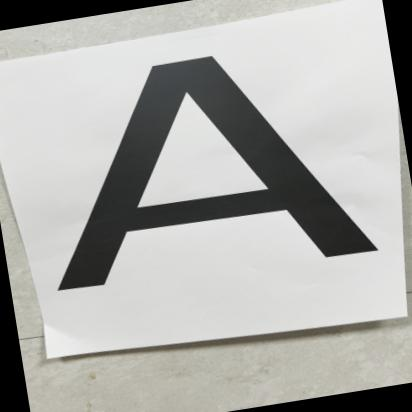seat: (19, 23, 382, 325)
